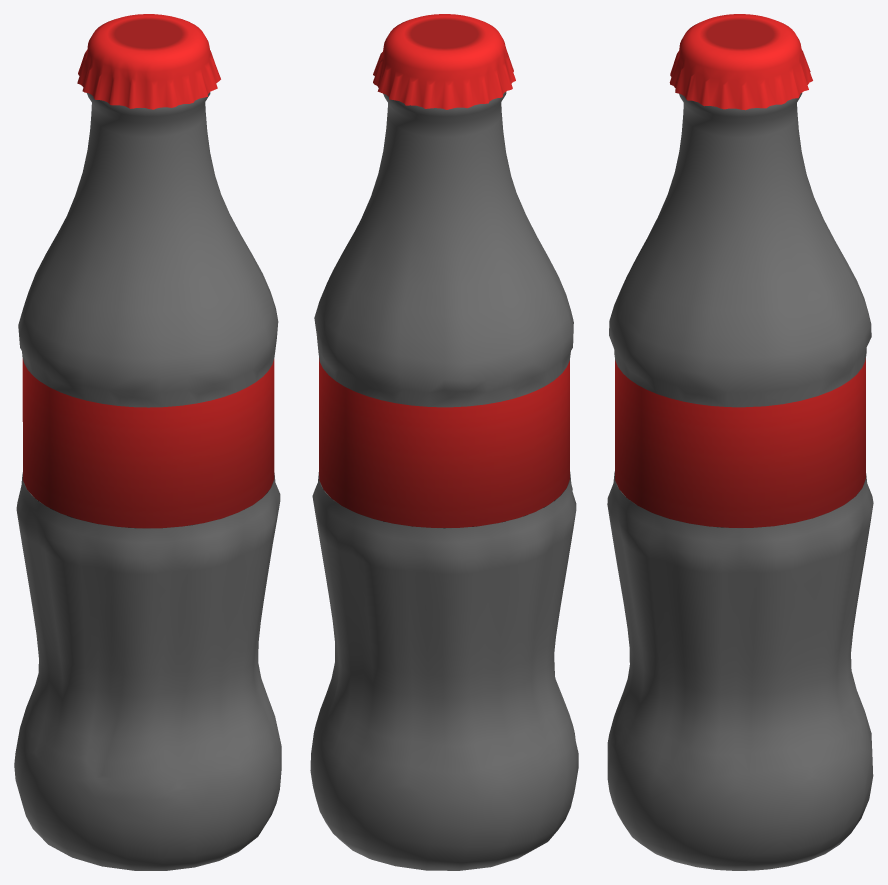
Rendered from Coke2.fbx.
3 views of the same model, side by side, from view 1: azimuth 30°, elevation 25°; view 2: azimuth 150°, elevation 25°; view 3: azimuth 270°, elevation 25° (orthographic).
Parts seen in each view (by area): view 1: Coke2; view 2: Coke2; view 3: Coke2.
Boxes of the visible parts, bbox=[...] form: Coke2: bbox=[14, 14, 281, 870]; Coke2: bbox=[310, 14, 578, 870]; Coke2: bbox=[607, 14, 873, 870].
Bounding box in the file's own units: 49.1 × 160 × 48.72.
